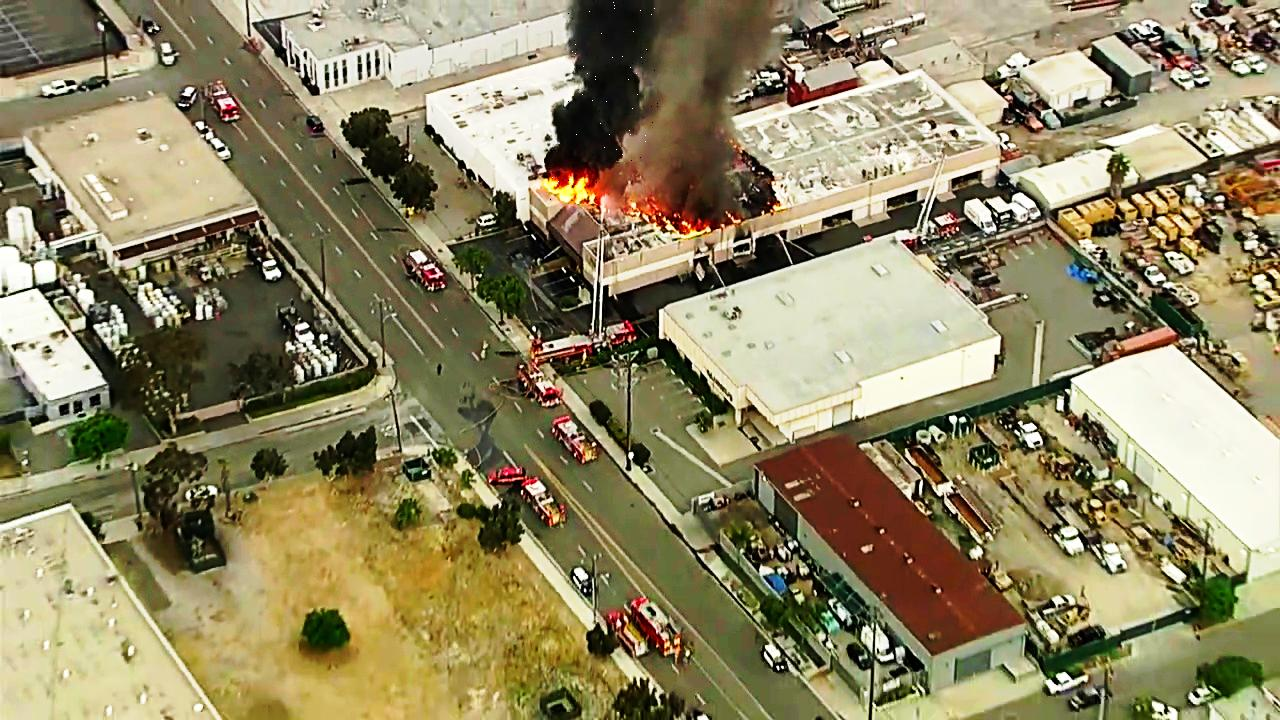fire: (550, 174, 606, 204)
smoke: (564, 0, 659, 162)
